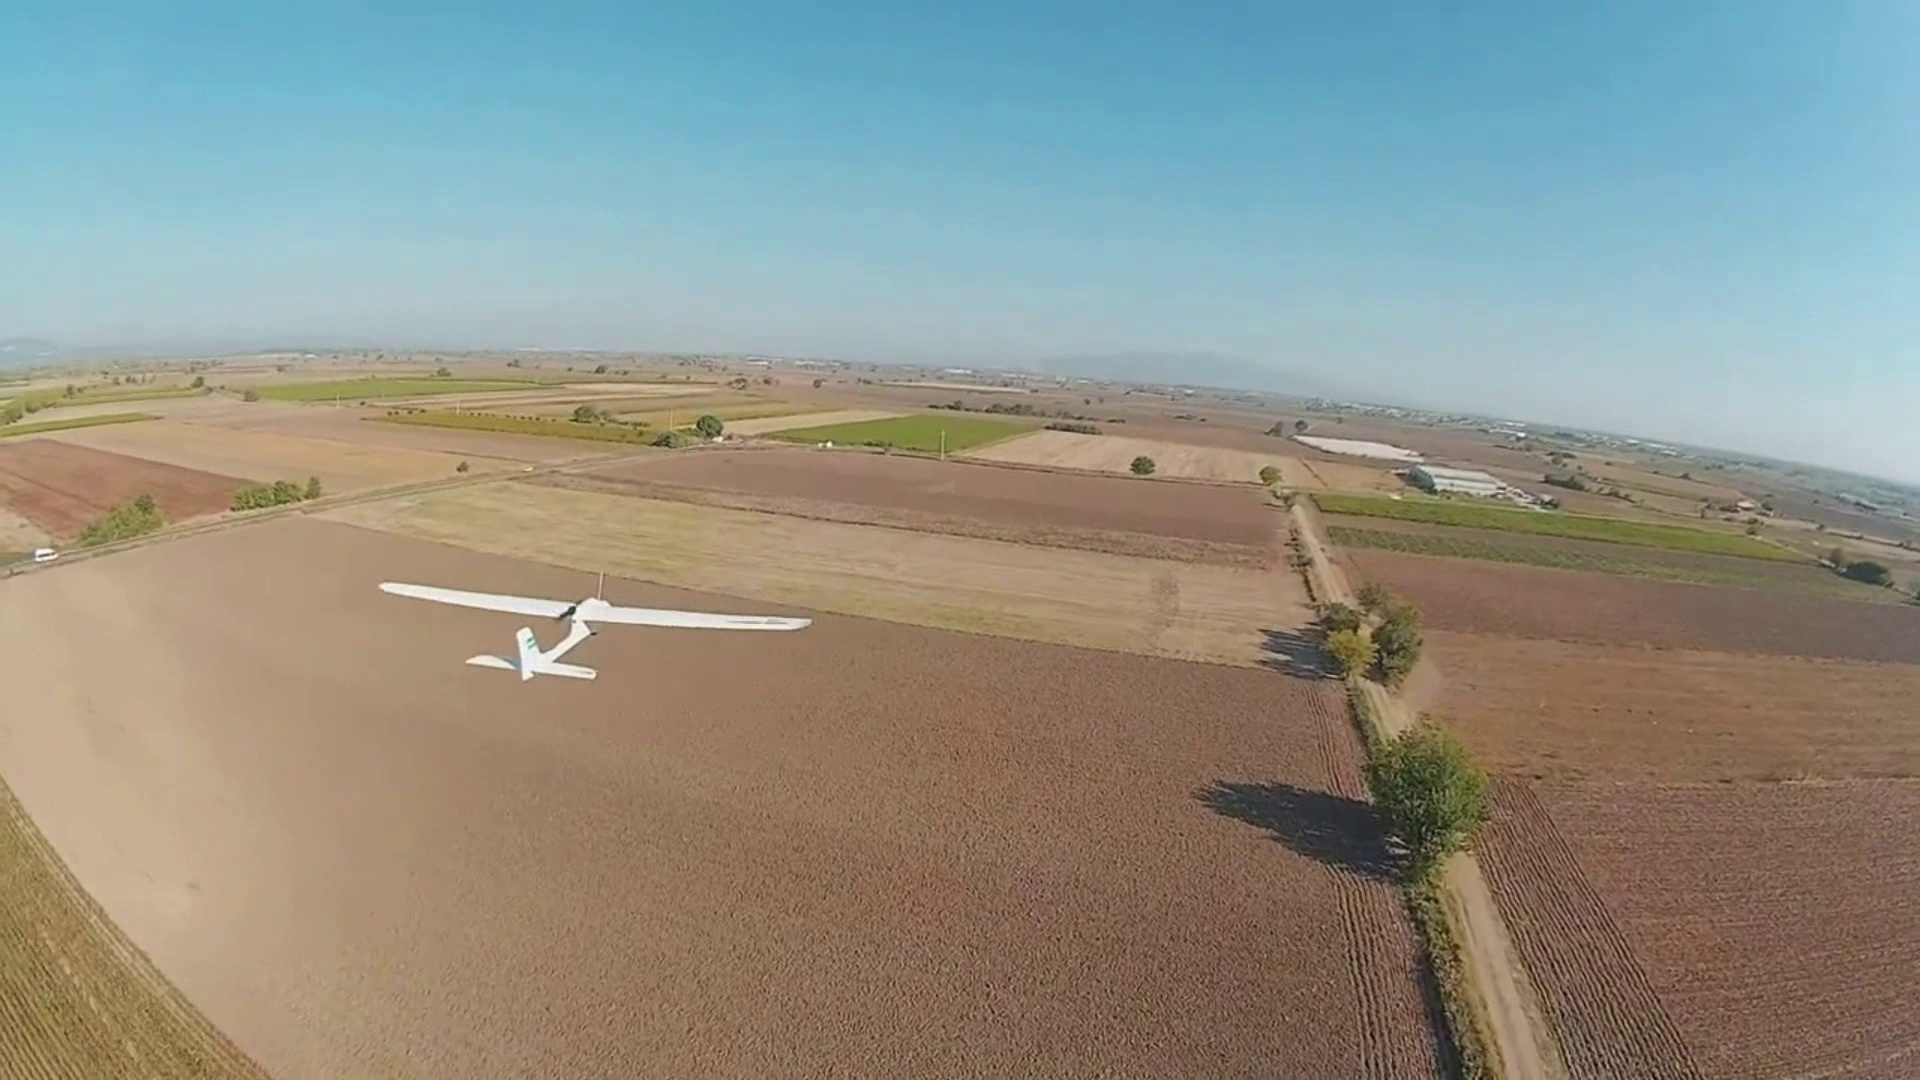airplane: (378, 576, 813, 684)
